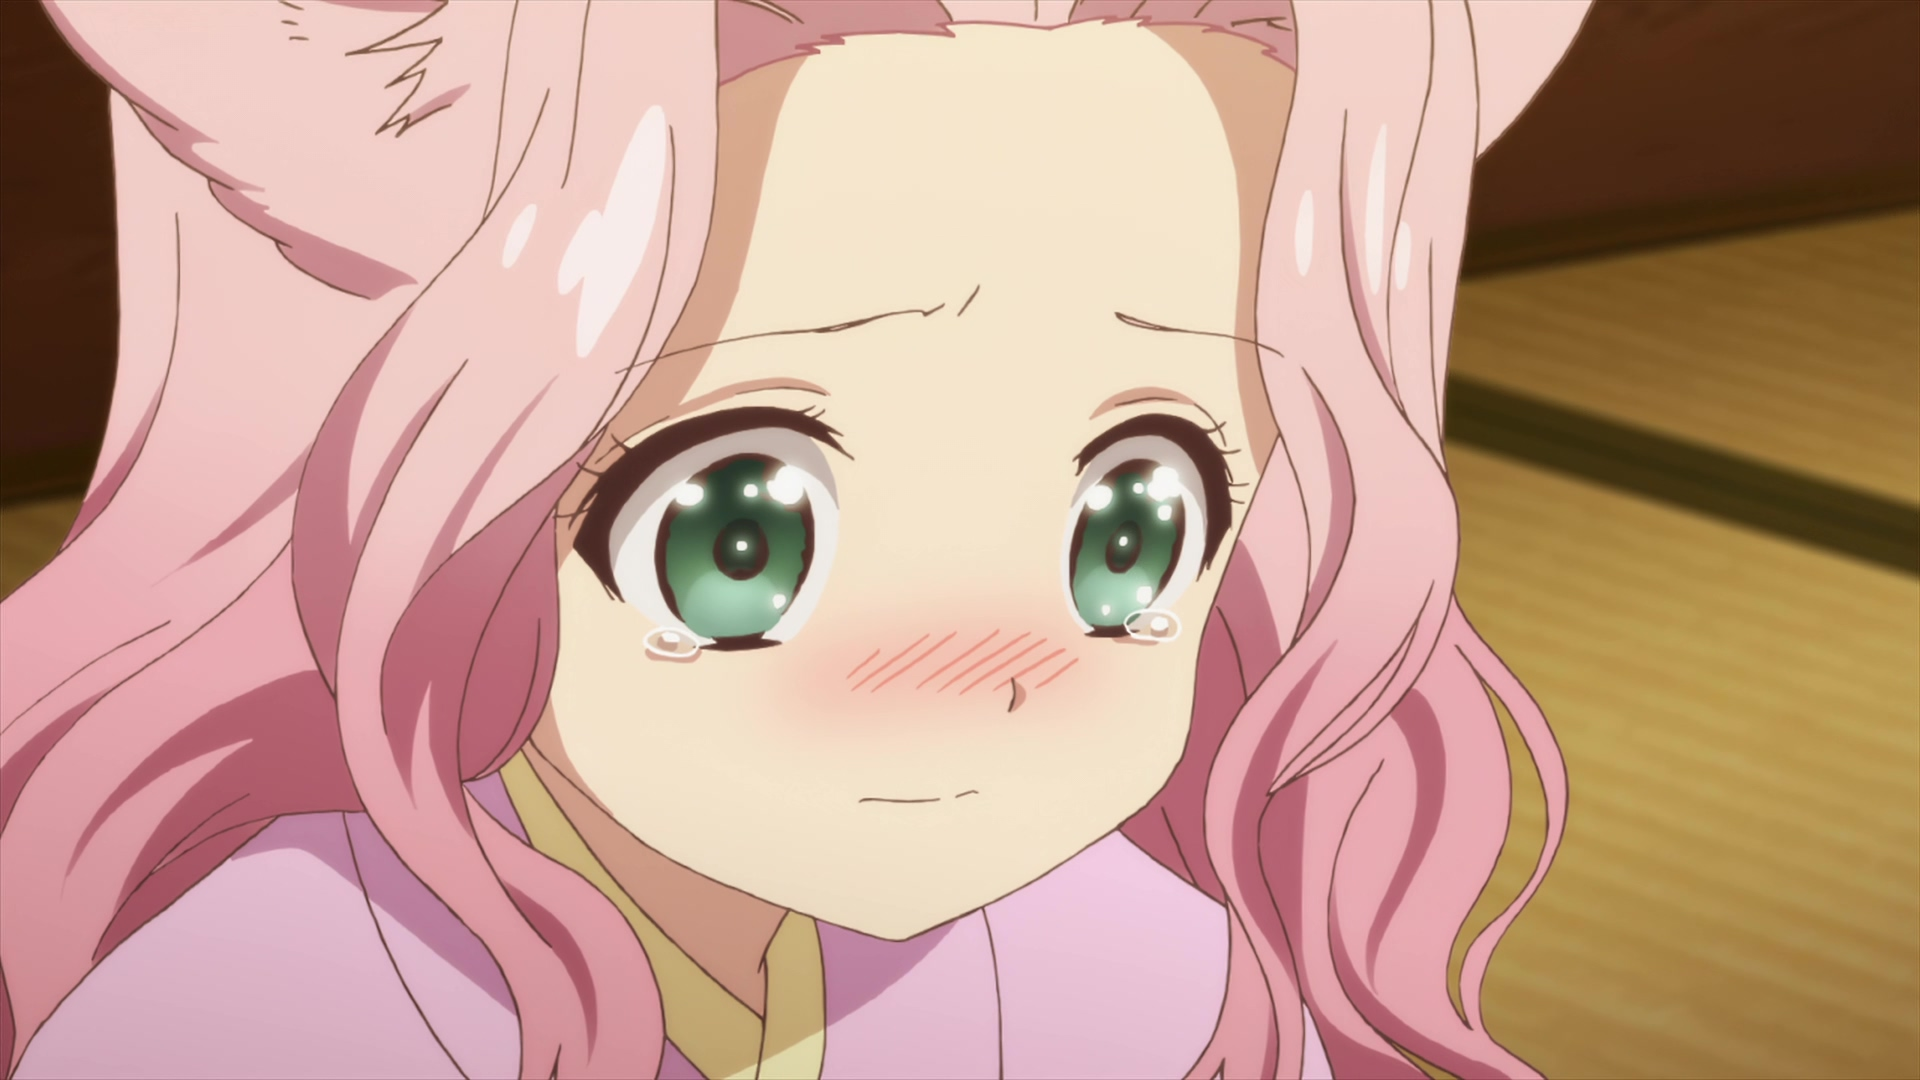莲: (1, 1, 1592, 1080)
